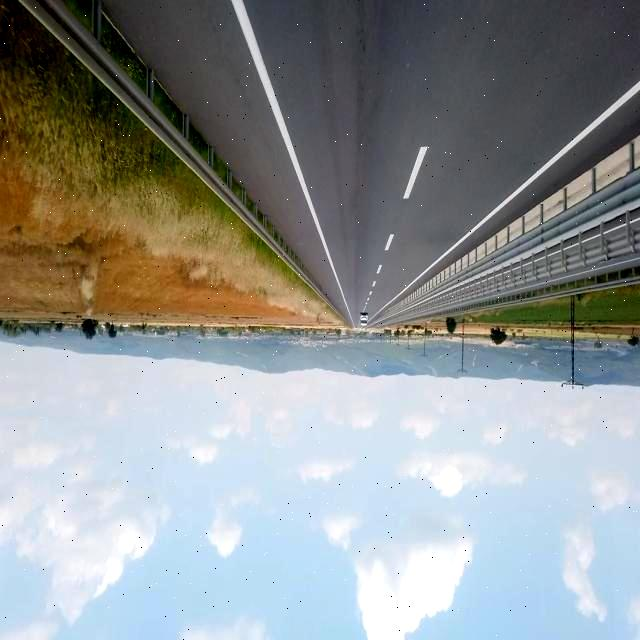lane: (375, 81, 640, 314), (231, 0, 349, 315), (402, 146, 428, 200), (386, 234, 394, 251)
road: (103, 1, 639, 326)
